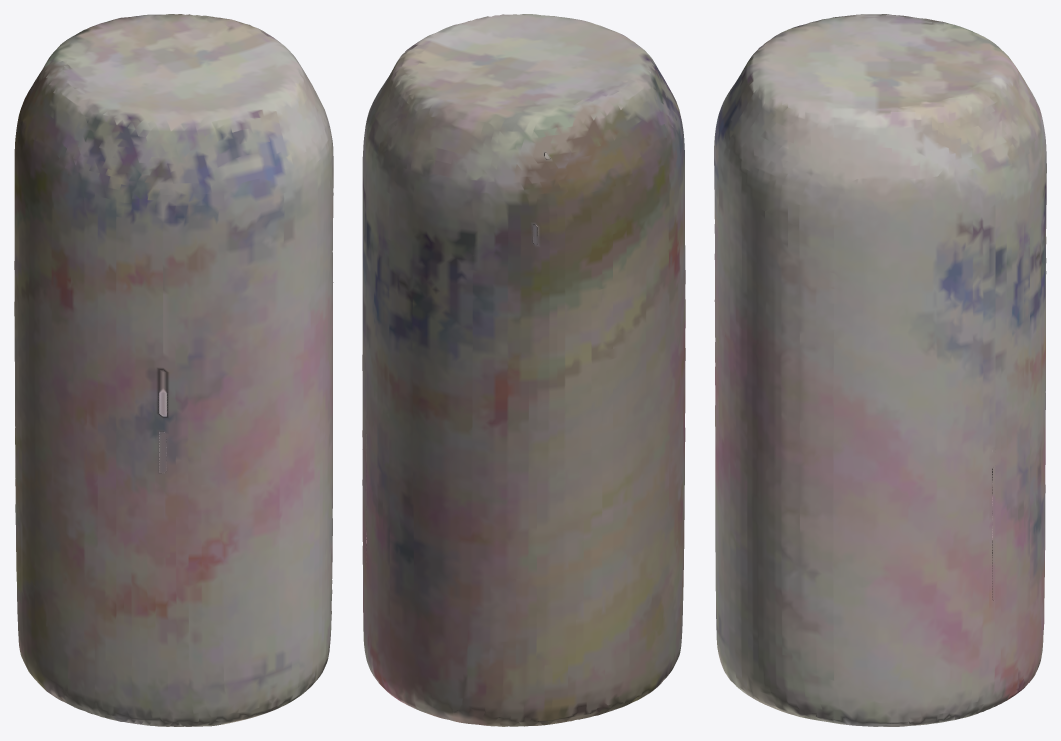
File: mesh_net05_pcd.glb
The picture shows the model from 3 angles, left to right: view 1: azimuth 30°, elevation 25°; view 2: azimuth 150°, elevation 25°; view 3: azimuth 270°, elevation 25°; orthographic projection.
Size of the model in its own units: 0.3927 by 0.8351 by 0.4147.
